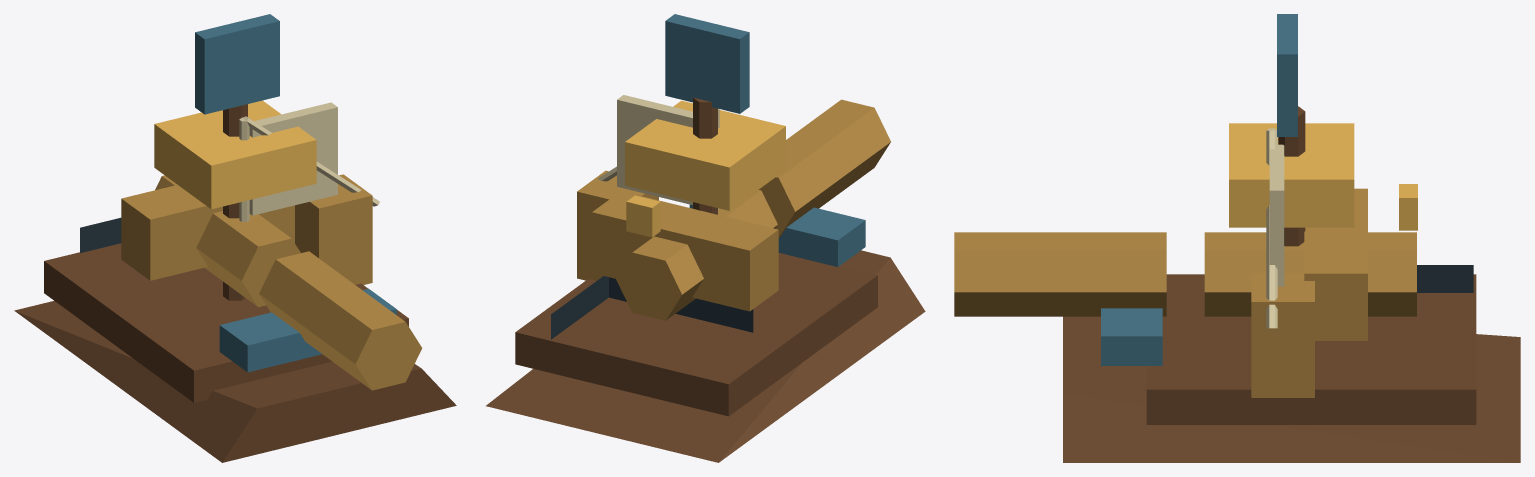
File: heavy-warship.obj
The picture shows the model from 3 angles, left to right: view 1: azimuth 30°, elevation 25°; view 2: azimuth 150°, elevation 25°; view 3: azimuth 270°, elevation 25°; orthographic projection. The views are drawn at different scales.
Visible parts, largest first — view 1: ship; view 2: ship; view 3: ship.
Part boxes in pixels (x1,y1,x2,y2): ship: (14, 14, 456, 462); ship: (486, 14, 925, 462); ship: (954, 14, 1520, 462).
Size of the model in its own units: 1.51 by 1.9 by 2.67.
